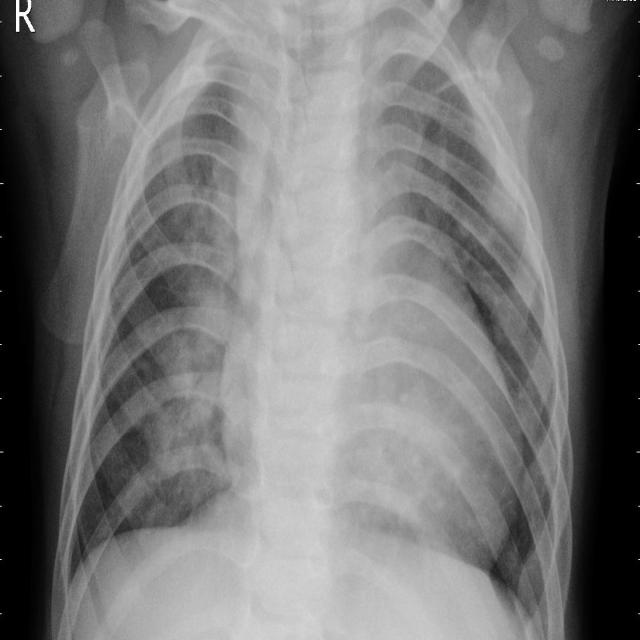low-pneumonia: (140, 304, 229, 517), (384, 82, 474, 229), (168, 137, 243, 300)
